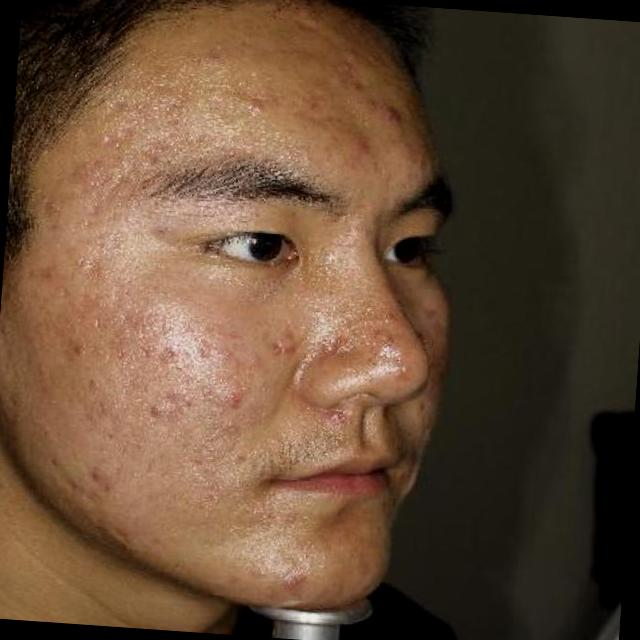nodules: (370, 94, 416, 132), (270, 562, 312, 602), (211, 382, 257, 418), (266, 330, 307, 364), (238, 88, 272, 125), (140, 394, 170, 424)
